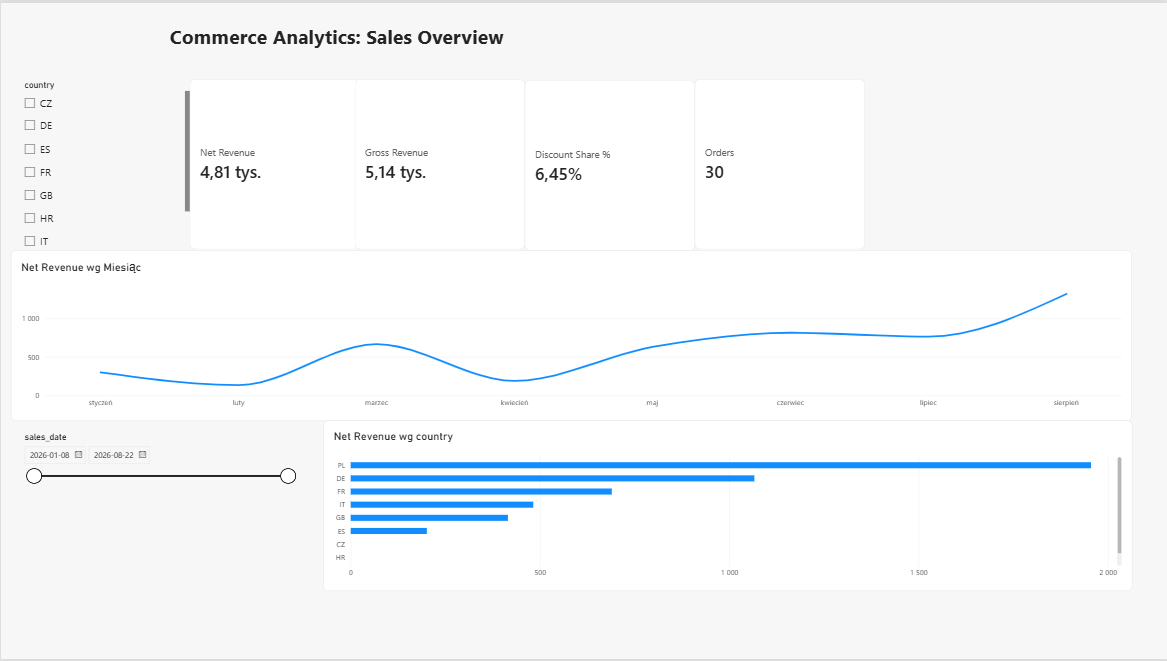

What the dashboard file says about the page in this screenshot:
{"tool":"powerbi","page":{"name":"Sales_Overview","canvas":[1920,1080],"ordinal":0},"visuals":[{"type":"cardVisual","fields":{"Data":["gold daily_sales_summary.Net Revenue"]},"box":[310.9,125.2,280,280],"z":0},{"type":"cardVisual","fields":{"Data":["gold daily_sales_summary.Gross Revenue"]},"box":[582.3,125.2,280,280],"z":1000},{"type":"cardVisual","fields":{"Data":["gold daily_sales_summary.Discount Share %"]},"box":[862.8,127,280,280],"z":2000},{"type":"cardVisual","fields":{"Data":["gold daily_sales_summary.Orders"]},"box":[1143.3,125.2,280,280],"z":3000},{"type":"lineChart","fields":{"Category":["gold daily_sales_summary.sales_date.Variation.Hierarchia dat.Miesiąc"],"Y":["gold daily_sales_summary.Net Revenue"]},"box":[16.3,407.2,1845.9,280.5],"z":4000},{"type":"barChart","fields":{"Category":["gold daily_sales_summary.country"],"Y":["gold daily_sales_summary.Net Revenue"]},"box":[530.2,687.7,1331.9,280.5],"z":5000},{"type":"slicer","fields":{"Values":["gold daily_sales_summary.country"]},"box":[30.4,125.2,280,280],"z":6000},{"type":"slicer","fields":{"Values":["gold daily_sales_summary.sales_date"]},"box":[30.8,705.8,457.8,267.8],"z":7000},{"type":"textbox","box":[278.7,32.6,803.5,63.3],"z":8000}]}

Visuals, with their boxes in screenshot pixels (x1, y1, x2, y2), scaled from the page's 1920x1080 canvas onto the 1167x661 screenshot:
cardVisual - gold daily_sales_summary.Net Revenue: select_region(189, 77, 359, 248)
cardVisual - gold daily_sales_summary.Gross Revenue: select_region(354, 77, 524, 248)
cardVisual - gold daily_sales_summary.Discount Share %: select_region(524, 78, 695, 249)
cardVisual - gold daily_sales_summary.Orders: select_region(695, 77, 865, 248)
lineChart - gold daily_sales_summary.sales_date.Variation.Hierarchia dat.Miesiąc x gold daily_sales_summary.Net Revenue: select_region(10, 249, 1132, 421)
barChart - gold daily_sales_summary.country x gold daily_sales_summary.Net Revenue: select_region(322, 421, 1132, 593)
slicer - gold daily_sales_summary.country: select_region(18, 77, 189, 248)
slicer - gold daily_sales_summary.sales_date: select_region(19, 432, 297, 596)
textbox: select_region(169, 20, 658, 59)
